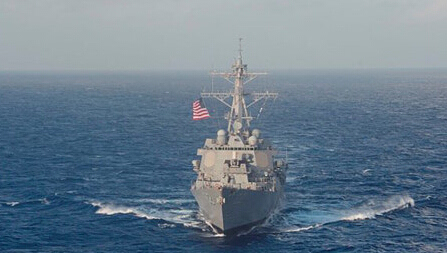warship: (183, 39, 285, 235)
